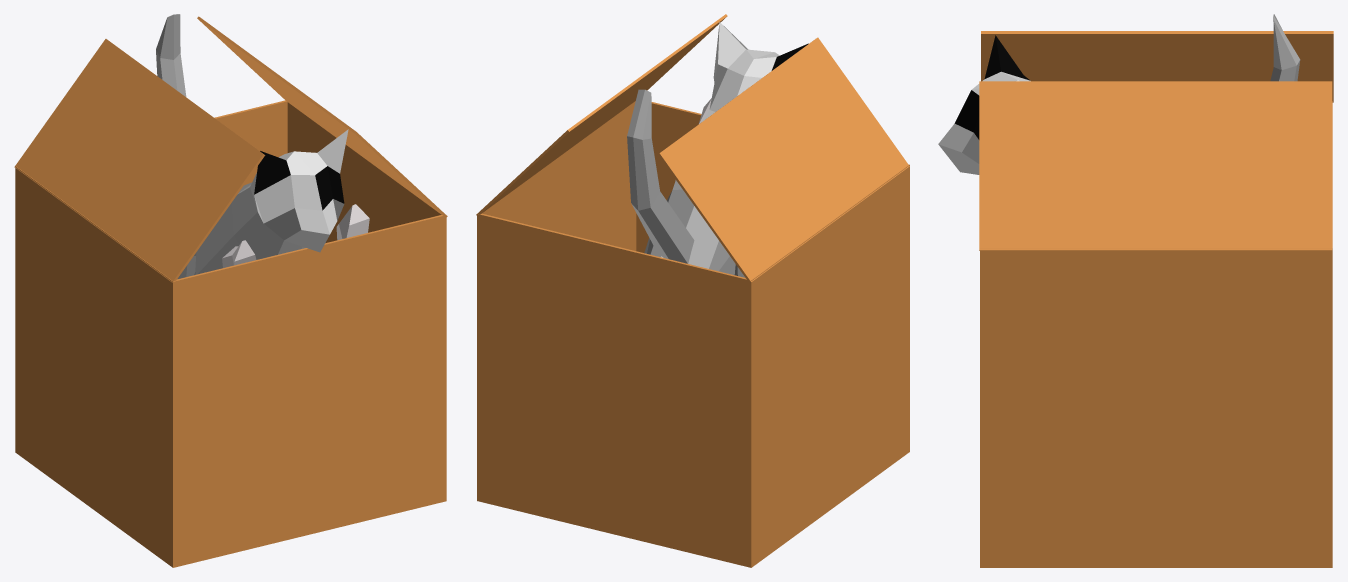
File: CatInBoxFixed.fbx
3 renders of one model, left to right at view 1: azimuth 30°, elevation 25°; view 2: azimuth 150°, elevation 25°; view 3: azimuth 270°, elevation 25°, orthographic. The views are drawn at different scales.
Parts seen in each view (by area): view 1: ORIGAMI_Chat.003; view 2: ORIGAMI_Chat.003; view 3: ORIGAMI_Chat.003.
Part boxes in pixels (x1,y1,x2,y2): ORIGAMI_Chat.003: (14, 14, 447, 567); ORIGAMI_Chat.003: (476, 14, 909, 567); ORIGAMI_Chat.003: (938, 14, 1333, 567).
Size of the model in its own units: 101 by 149 by 112.
